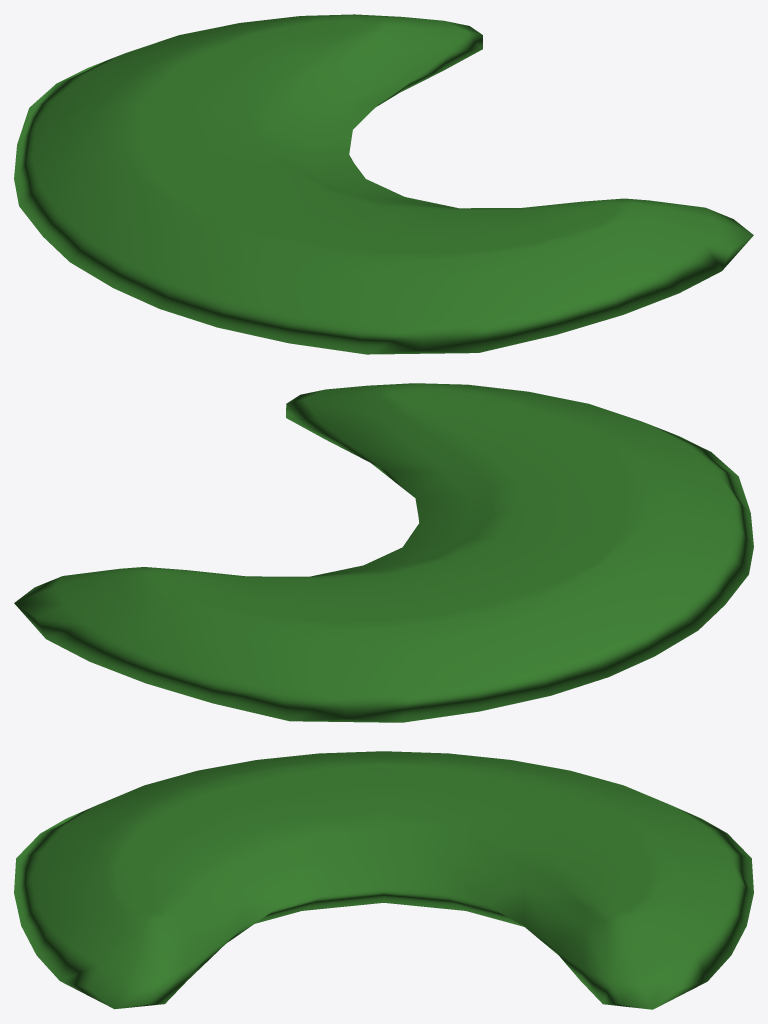
Rendered from SM_Env_RoadEdge_Green_02.fbx.
3 renders of one model, top to bottom at view 1: azimuth 30°, elevation 25°; view 2: azimuth 150°, elevation 25°; view 3: azimuth 270°, elevation 25°, orthographic. The views are drawn at different scales.
Parts seen in each view (by area): view 1: SM_Env_RoadEdge_Green_02; view 2: SM_Env_RoadEdge_Green_02; view 3: SM_Env_RoadEdge_Green_02.
Boxes of the visible parts, box(x1,y1,x2,y2) form: SM_Env_RoadEdge_Green_02: box(14, 14, 753, 354); SM_Env_RoadEdge_Green_02: box(14, 383, 753, 722); SM_Env_RoadEdge_Green_02: box(14, 751, 753, 1009).
Bounding box in the file's own units: 4078 × 373 × 5108.
